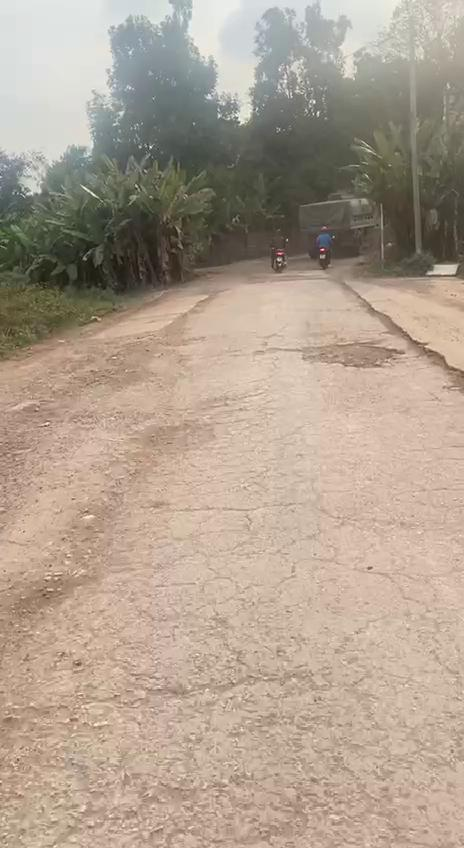pothole: (299, 338, 411, 370)
